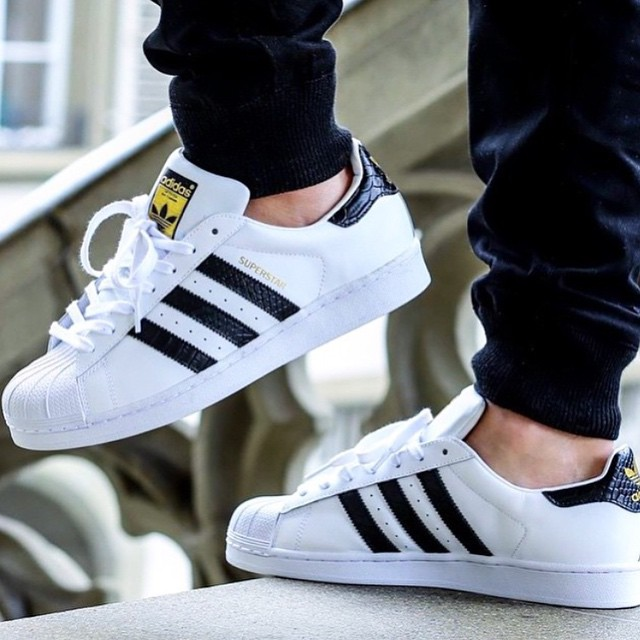sneaker: (1, 124, 448, 467), (196, 360, 640, 628)
